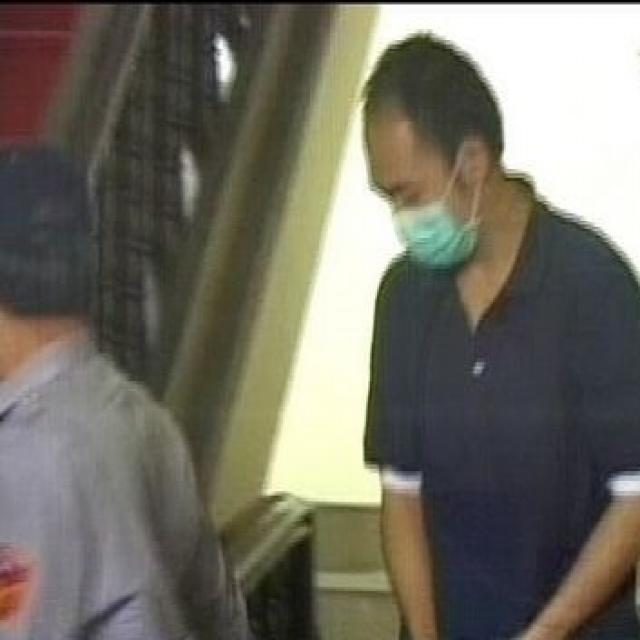mask: (361, 115, 473, 272)
